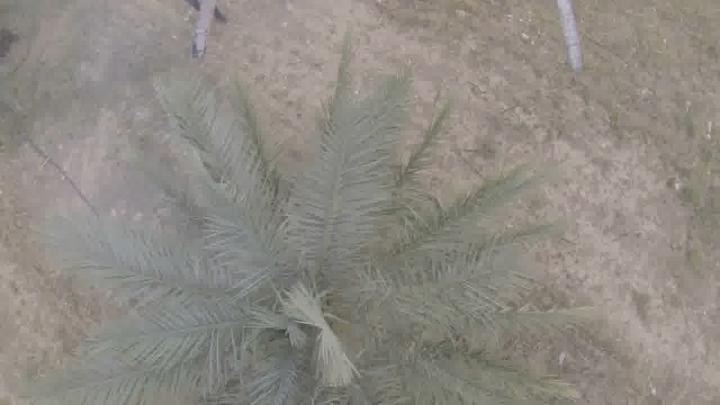Date-Palm-Crown: (146, 191, 478, 405)
